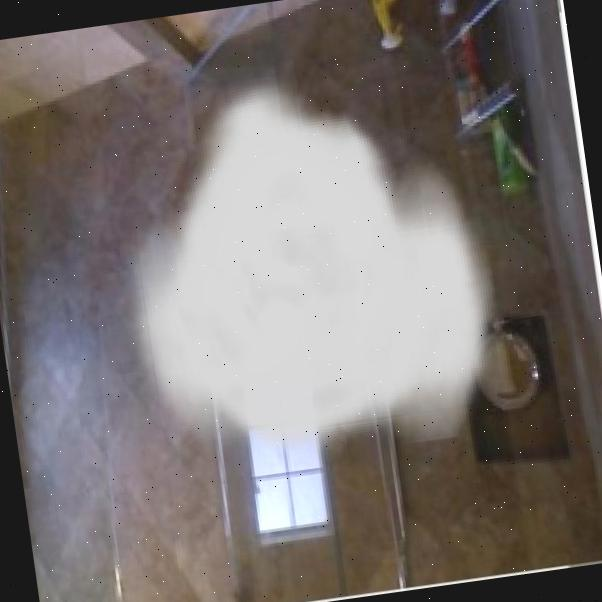smoke: (89, 48, 514, 480)
